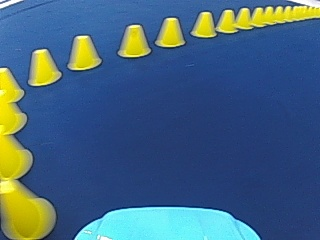cone: (0, 177, 55, 236), (0, 69, 27, 130), (0, 129, 32, 178), (26, 47, 61, 86), (67, 33, 101, 70), (117, 23, 151, 57), (155, 16, 185, 47), (0, 67, 24, 104), (190, 10, 216, 38), (216, 9, 235, 33), (234, 7, 251, 28), (250, 6, 264, 26), (263, 5, 274, 23), (273, 5, 284, 20), (284, 6, 292, 19)
